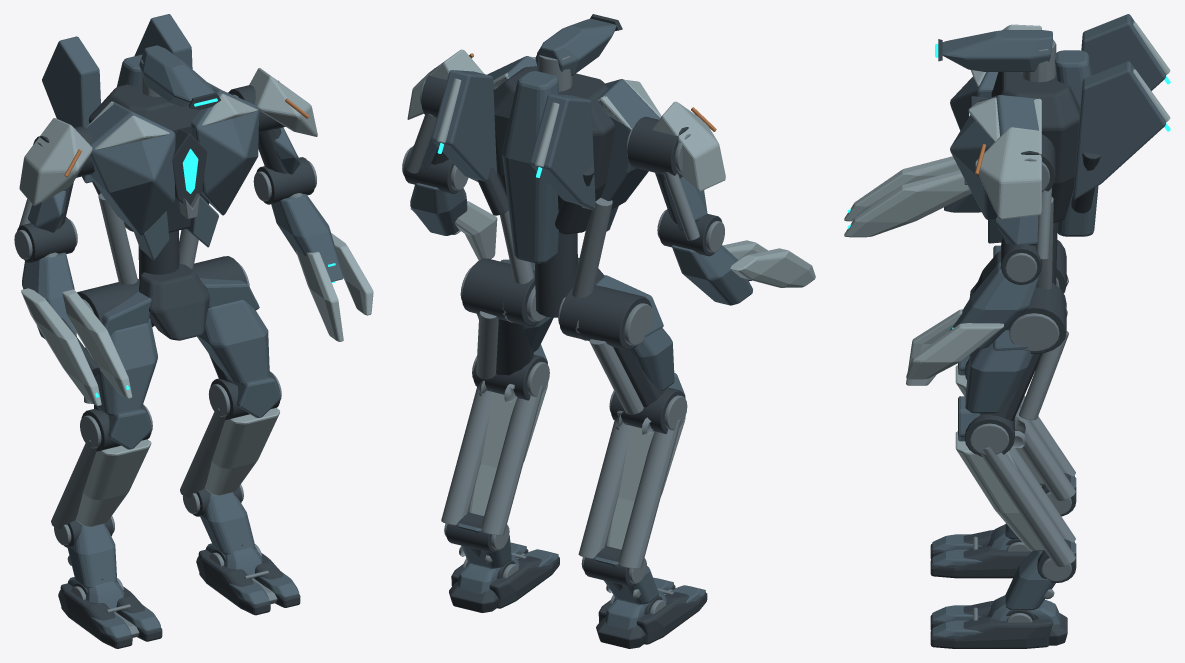
Rendered from G0_Bipedal_V21_Review.fbx.
3 renders of one model, left to right at view 1: azimuth 30°, elevation 25°; view 2: azimuth 150°, elevation 25°; view 3: azimuth 270°, elevation 25°, orthographic. The views are drawn at different scales.
Parts seen in each view (by area): view 1: Chest swept carapace -1.001, Chest swept carapace 1.001, L tapered thigh shield.001, Rear swept containment fin -1.001, Pelvis ventral prow.001, R swept shoulder vane.001, R shin blade.001, L shin blade.001, R tapered thigh shield.001, L gravity gauntlet.001, Lash emitter split blade -1.001, Torso internal load frame.001 (+46 smaller); view 2: Rear spinal containment.001, Rear swept containment fin -1.001, Rear swept containment fin 1.001, Torso internal load frame.001, R hip spindle.001, L shin rail -1.001, R shin rail 1.001, L hip spindle.001, Chest swept carapace -1.001, R swept shoulder vane.001, R shin rail -1.001, L shin rail 1.001 (+45 smaller); view 3: Rear swept containment fin 1.001, L swept shoulder vane.001, Torso internal load frame.001, Lash emitter split blade 1.001, Sensor swept wedge.001, Chest swept carapace 1.001, L tapered thigh shield.001, Rear swept containment fin -1.001, L shin rail 1.001, L gravity gauntlet.001, L toe 1.001, Capture jaw 1.001 (+31 smaller).
Boxes of the visible parts, bbox=[...] form: Chest swept carapace -1.001: bbox=[86, 102, 175, 235]; Chest swept carapace 1.001: bbox=[191, 83, 258, 215]; L tapered thigh shield.001: bbox=[197, 300, 269, 384]; Rear swept containment fin -1.001: bbox=[42, 36, 100, 183]; Pelvis ventral prow.001: bbox=[139, 264, 209, 340]; R swept shoulder vane.001: bbox=[19, 118, 92, 205]; R shin blade.001: bbox=[76, 439, 151, 526]; L shin blade.001: bbox=[205, 408, 279, 495]; R tapered thigh shield.001: bbox=[85, 318, 157, 415]; L gravity gauntlet.001: bbox=[271, 194, 343, 281]; Lash emitter split blade -1.001: bbox=[21, 288, 101, 405]; Torso internal load frame.001: bbox=[88, 84, 209, 232]; Rear spinal containment.001: bbox=[501, 71, 559, 263]; Rear swept containment fin -1.001: bbox=[529, 94, 595, 210]; Rear swept containment fin 1.001: bbox=[431, 70, 497, 181]; Torso internal load frame.001: bbox=[493, 66, 614, 234]; R hip spindle.001: bbox=[559, 285, 651, 349]; L shin rail -1.001: bbox=[481, 386, 543, 535]; R shin rail 1.001: bbox=[619, 419, 680, 568]; L hip spindle.001: bbox=[462, 258, 540, 326]; Chest swept carapace -1.001: bbox=[598, 79, 659, 209]; R swept shoulder vane.001: bbox=[652, 101, 725, 191]; R shin rail -1.001: bbox=[578, 420, 629, 558]; L shin rail 1.001: bbox=[441, 387, 491, 525]; Rear swept containment fin 1.001: bbox=[1073, 61, 1165, 199]; L swept shoulder vane.001: bbox=[975, 127, 1041, 219]; Torso internal load frame.001: bbox=[991, 72, 1080, 223]; Lash emitter split blade 1.001: bbox=[844, 170, 971, 237]; Sensor swept wedge.001: bbox=[942, 30, 1052, 71]; Chest swept carapace 1.001: bbox=[950, 95, 1041, 219]; L tapered thigh shield.001: bbox=[965, 342, 1033, 413]; Rear swept containment fin -1.001: bbox=[1081, 14, 1165, 90]; L shin rail 1.001: bbox=[981, 447, 1075, 566]; L gravity gauntlet.001: bbox=[950, 262, 1041, 349]; L toe 1.001: bbox=[930, 616, 1052, 648]; Capture jaw 1.001: bbox=[906, 323, 1003, 379].
Bounding box in the file's own units: 2.06 × 3.36 × 1.75.
